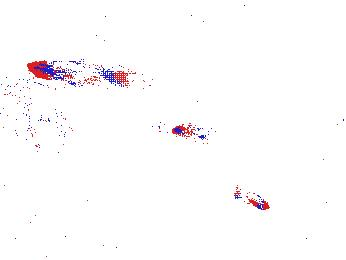X-ray fish: (36, 109, 81, 150)
red belly glassfish: (232, 182, 270, 215), (175, 120, 226, 141)
redtail glassfish: (32, 56, 129, 88), (151, 118, 217, 156), (1, 73, 72, 105), (3, 104, 34, 142)
